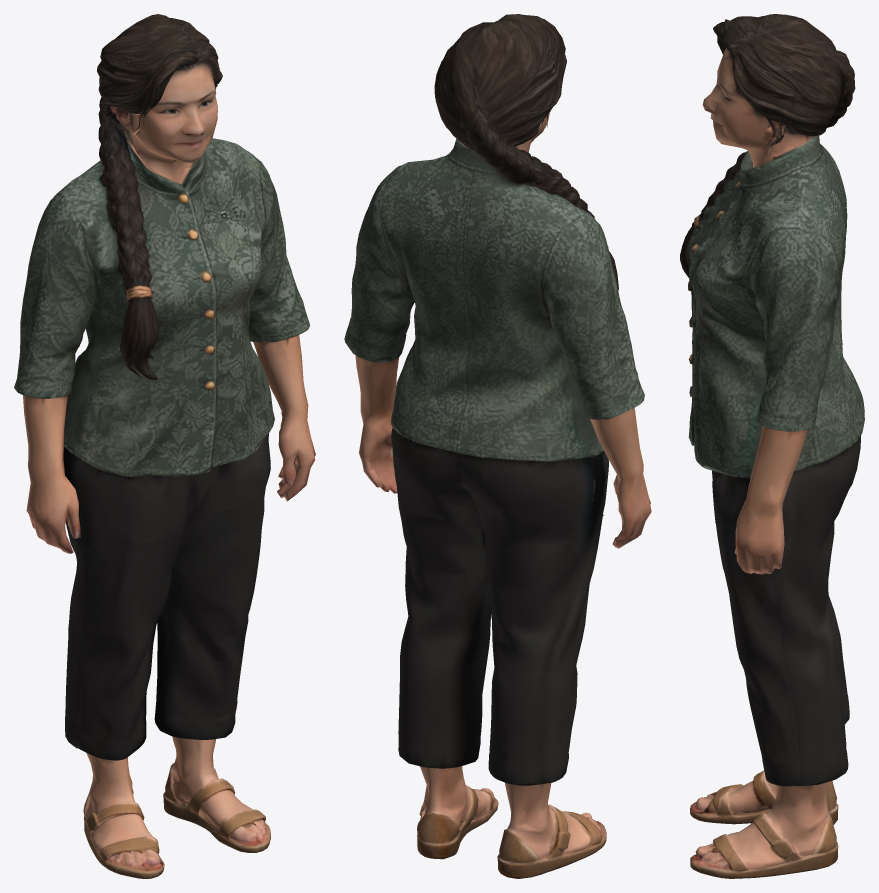
Rendered from marketBack.glb.
The picture shows the model from 3 angles, left to right: view 1: azimuth 30°, elevation 25°; view 2: azimuth 150°, elevation 25°; view 3: azimuth 270°, elevation 25°; orthographic projection.
Parts seen in each view (by area): view 1: tripo_node_b0e05505-e6bd-4f64-b4a1-56350dbcf9a4, marketBack articulation; view 2: tripo_node_b0e05505-e6bd-4f64-b4a1-56350dbcf9a4; view 3: tripo_node_b0e05505-e6bd-4f64-b4a1-56350dbcf9a4, marketBack articulation.
Part boxes in pixels (x1,y1,x2,y2): tripo_node_b0e05505-e6bd-4f64-b4a1-56350dbcf9a4: [14, 14, 315, 878]; marketBack articulation: [118, 56, 222, 185]; tripo_node_b0e05505-e6bd-4f64-b4a1-56350dbcf9a4: [344, 14, 651, 878]; tripo_node_b0e05505-e6bd-4f64-b4a1-56350dbcf9a4: [680, 14, 864, 878]; marketBack articulation: [702, 32, 767, 180].
Bounding box in the file's own units: 0.3633 × 0.9793 × 0.1994.
2 materials, 1 textured.
